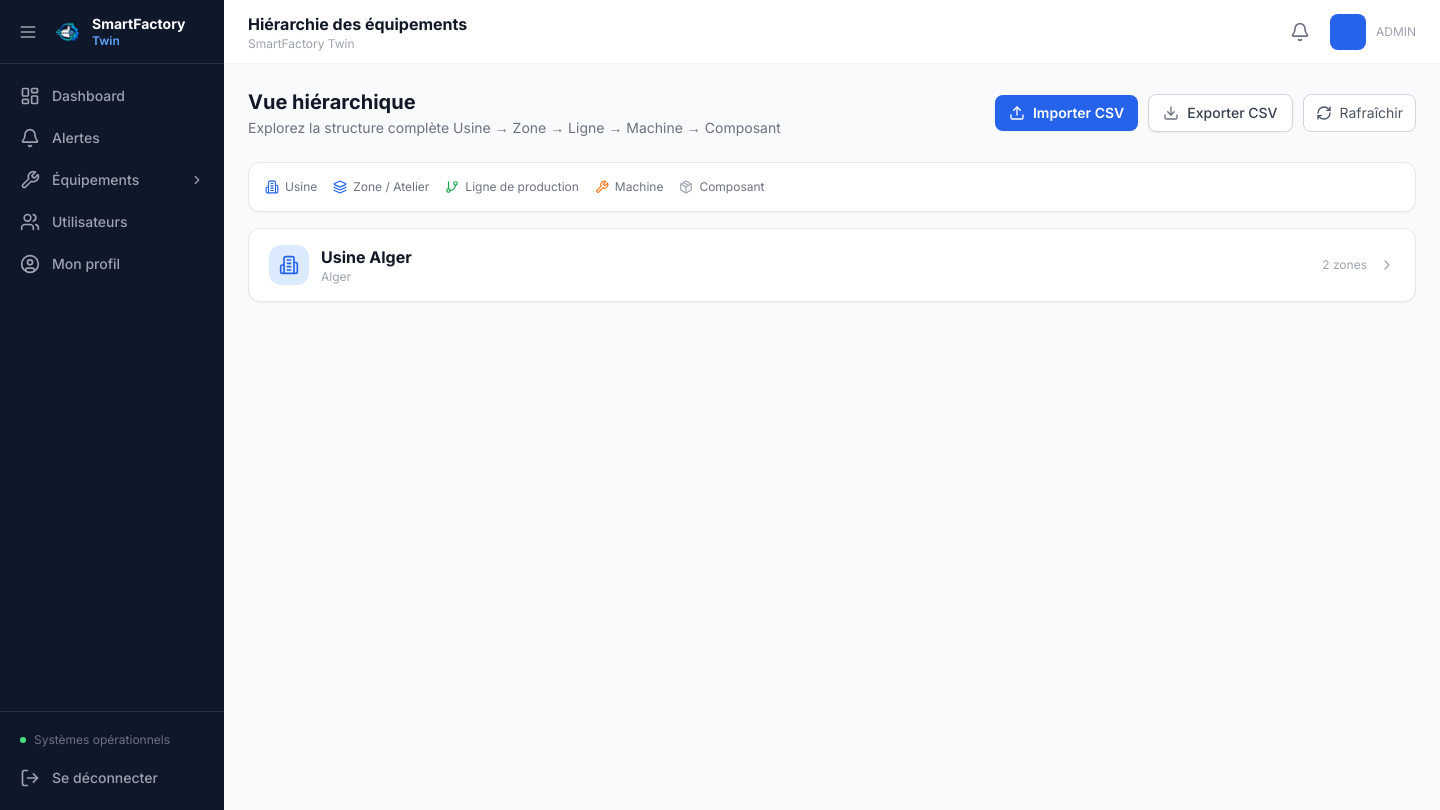
Test: HierarchiePage - Module 3 CSV Import/Export › ouvre la modale d'import CSV lors du clic sur "Importer CSV"
The image size is (1440, 810).
What coordinates should you click on to do the following:
click the button "Importer CSV"
I would click on:
 (1067, 113)
Its box is [995,95,1138,131].
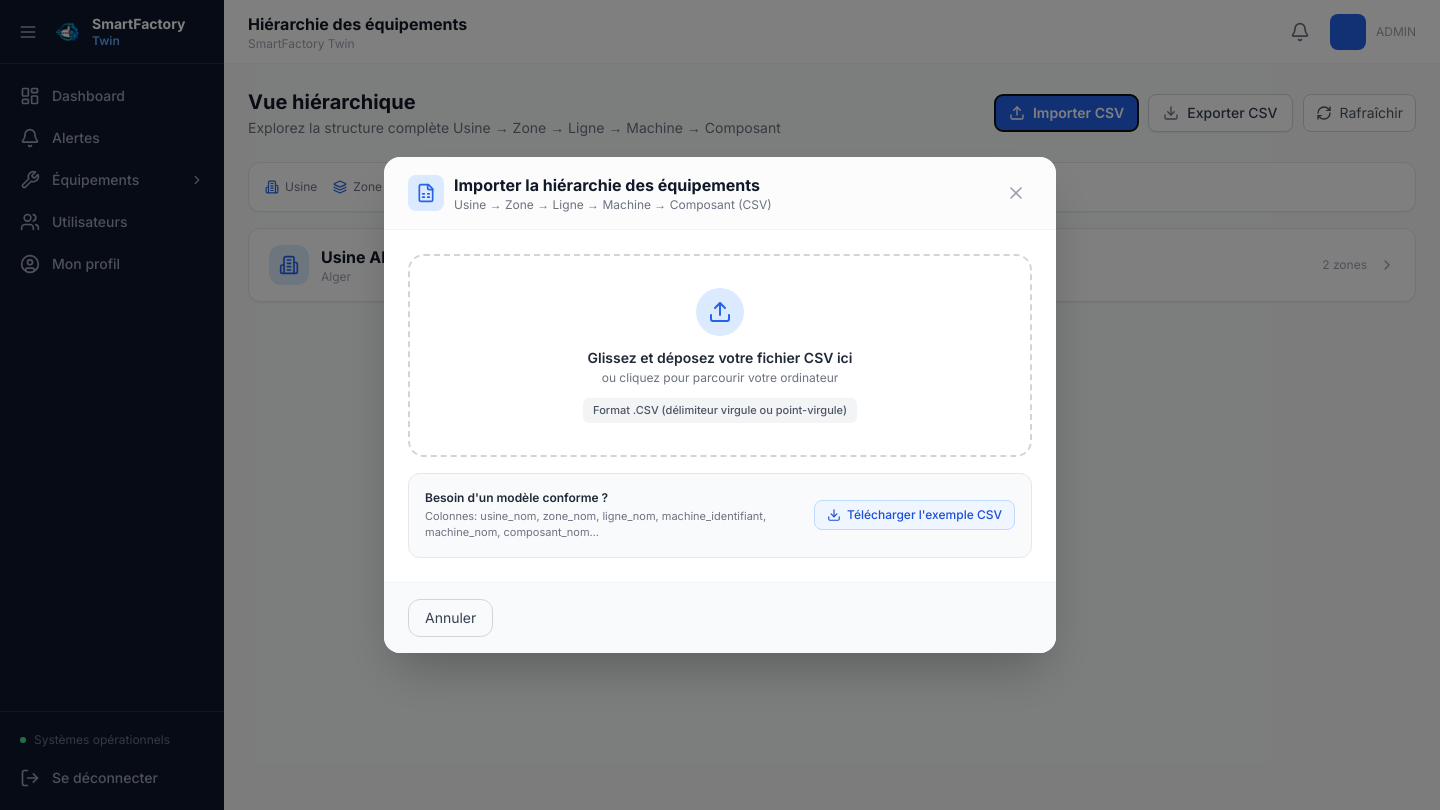
Check: the heading "Importer la hiérarchie des équipements" is shown, box [454,173,772,197]
Check: the button "Télécharger l'exemple CSV" is shown, box [814,500,1015,530]
